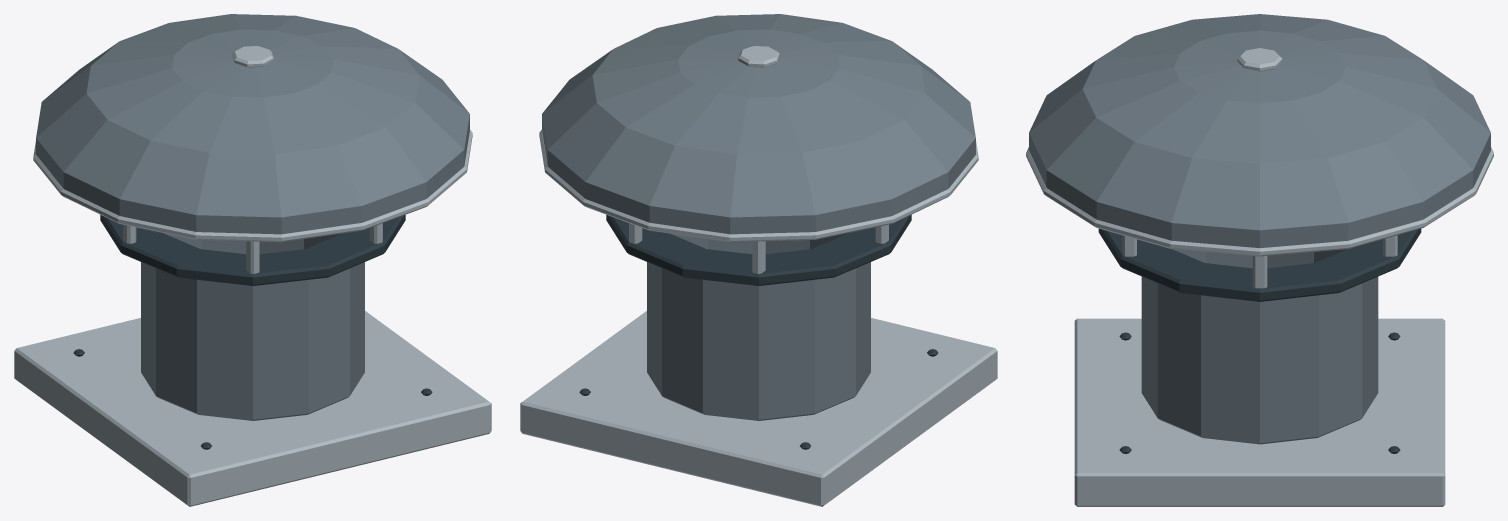
File: b05_mushroom_roof_exhaust.glb
The picture shows the model from 3 angles, left to right: view 1: azimuth 30°, elevation 25°; view 2: azimuth 150°, elevation 25°; view 3: azimuth 270°, elevation 25°; orthographic projection. The views are drawn at different scales.
Visible parts, largest first — view 1: b05_mushroom_roof_exhaust; view 2: b05_mushroom_roof_exhaust; view 3: b05_mushroom_roof_exhaust.
Part boxes in pixels (x1,y1,x2,y2): b05_mushroom_roof_exhaust: [14, 14, 491, 506]; b05_mushroom_roof_exhaust: [520, 14, 997, 506]; b05_mushroom_roof_exhaust: [1026, 14, 1493, 506].
Bounding box in the file's own units: 0.8709 × 0.767 × 0.8709.
